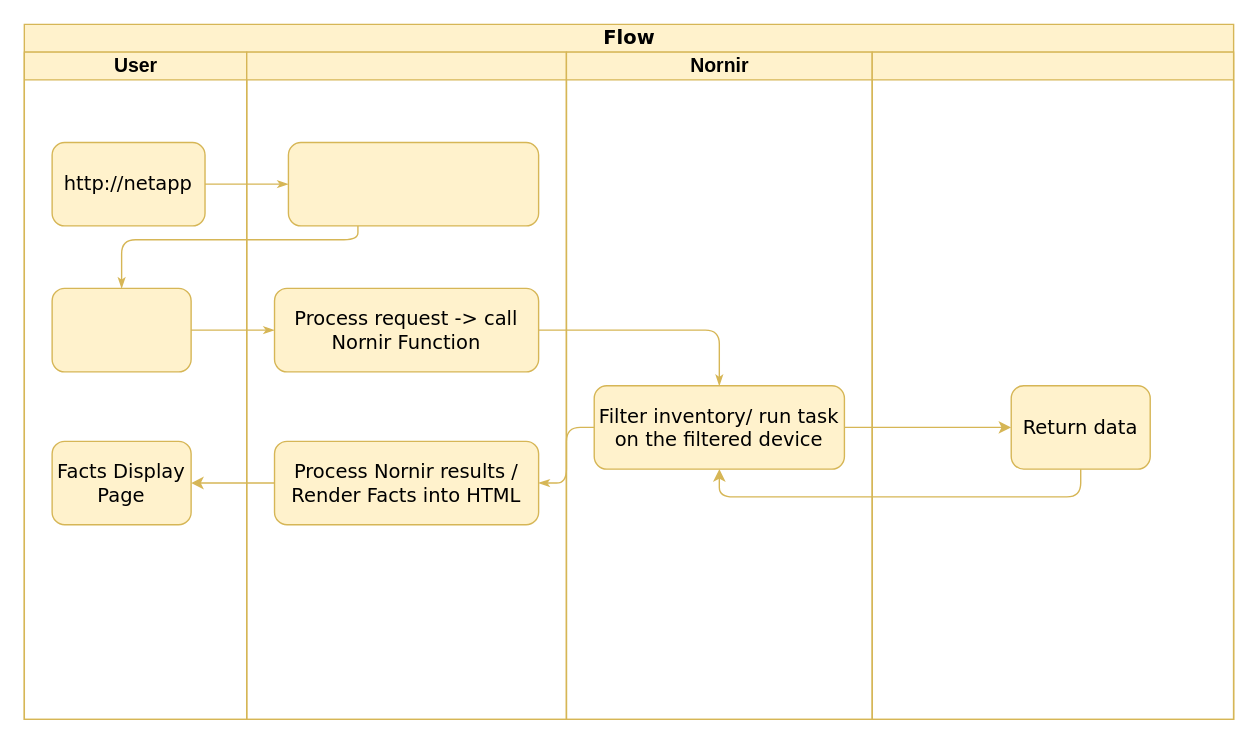
This 1258x744 diagram has some shape labels left out. Each missing label, with the box of its shape:
Device: (871, 51, 1234, 719)
Flask: (245, 51, 566, 719)
Get Device Facts: (51, 287, 191, 372)
Pull Nornir Inventory / Render Inventory List: (287, 141, 539, 226)
